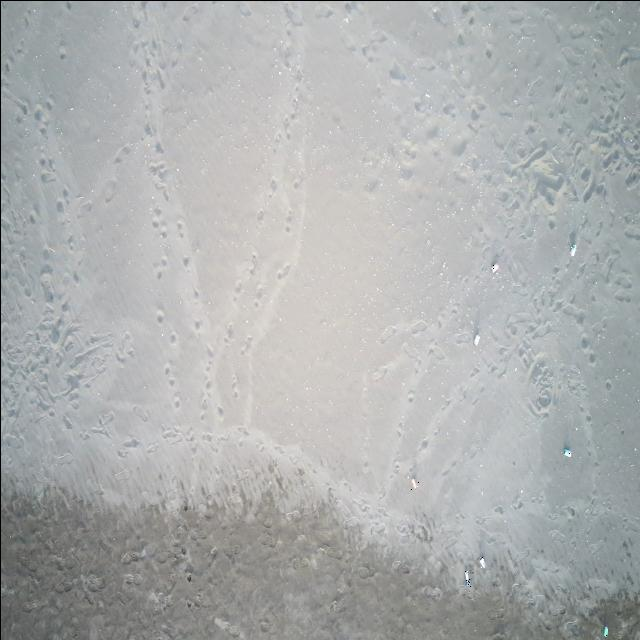Garbage: (464, 569, 470, 586), (569, 241, 575, 256), (409, 477, 417, 488), (472, 335, 479, 346), (563, 447, 571, 456), (491, 263, 499, 272), (602, 626, 607, 636), (480, 556, 484, 567)
